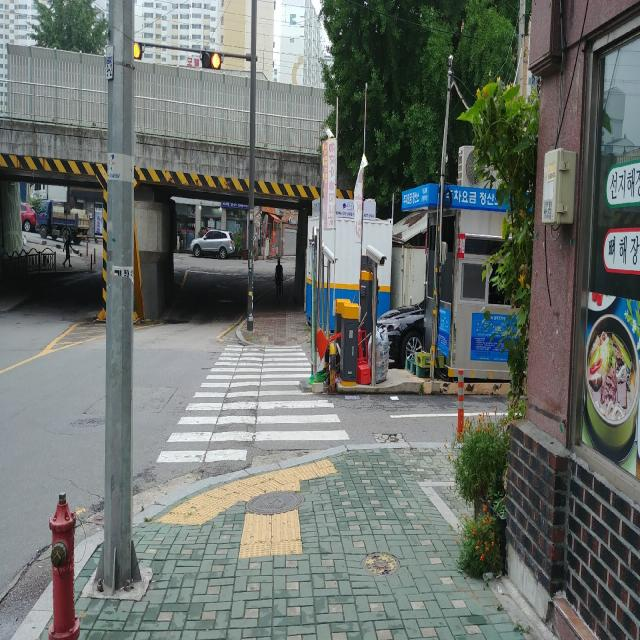횡단보도: (155, 344, 351, 466)
